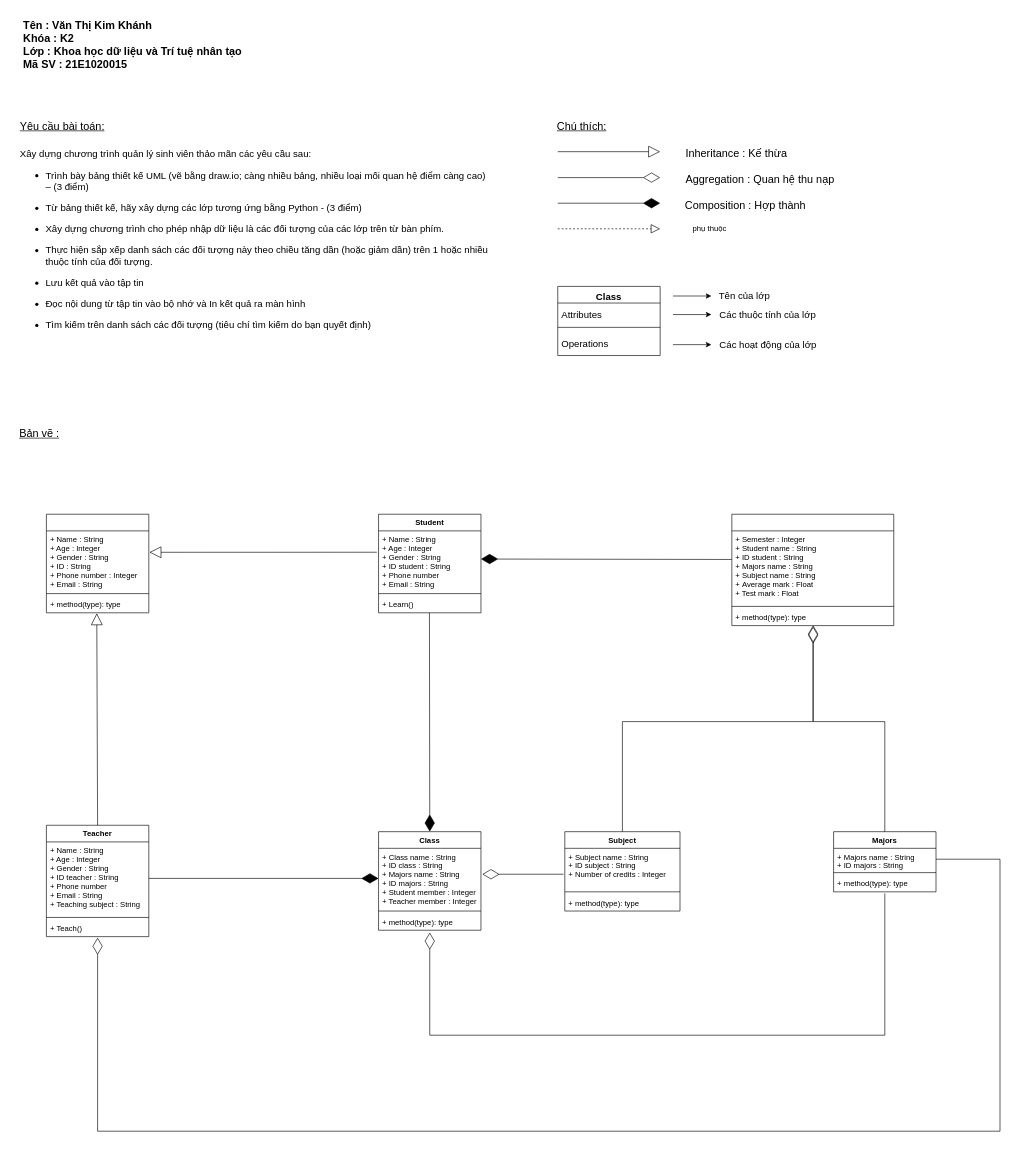
The diagram is 1028 pixels wide and 1159 high, and some of its shapes have lost their labels. Each missing label, with the box of its shape:
Learning results: (731, 514, 894, 626)
Person: (46, 514, 149, 613)
